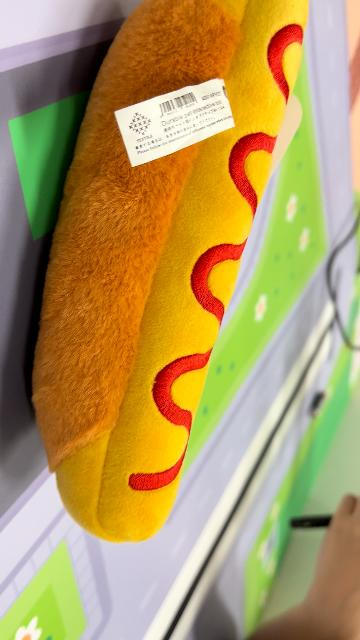hotdog: (31, 2, 311, 544)
